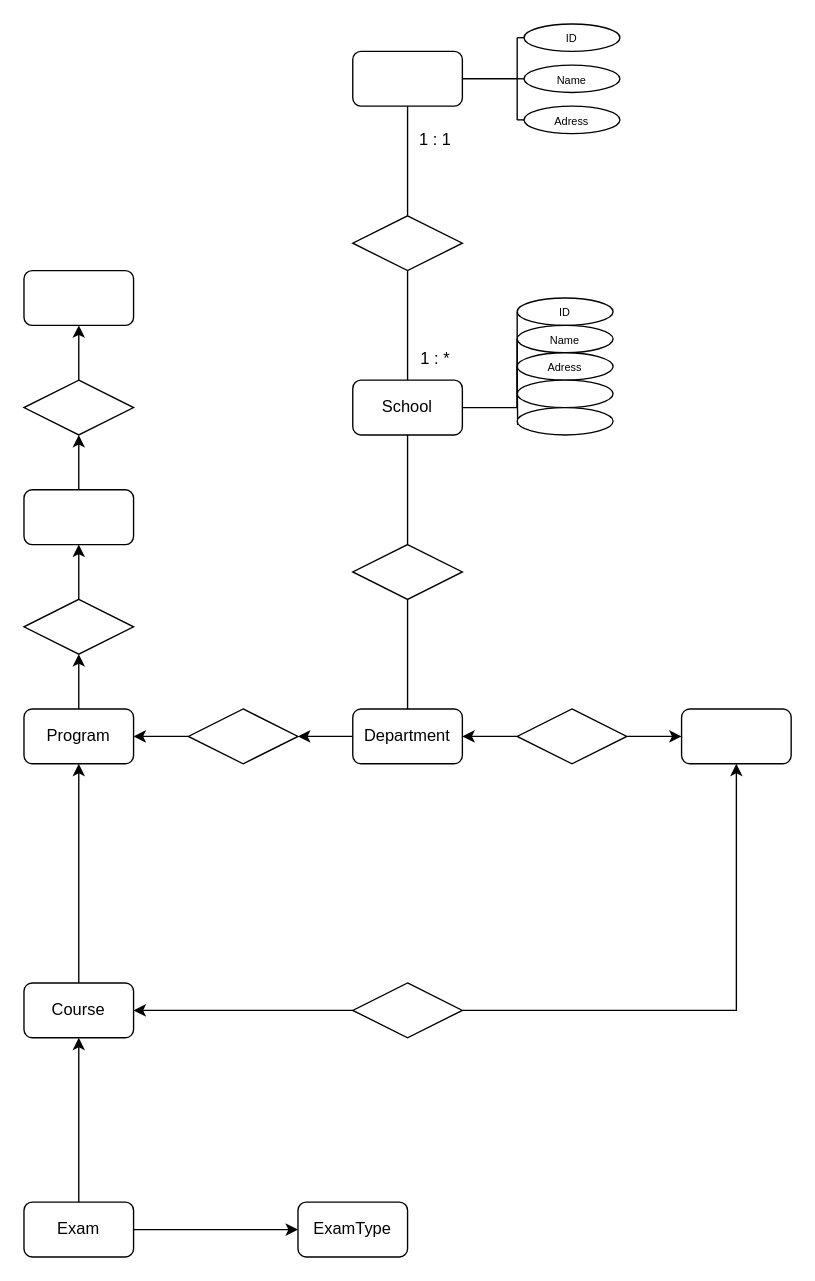
This 815x1281 diagram has some shape labels left out. The centre of each missing label's shape, as x and y in pixels:
Dean: [564,393]
Employe: [735,736]
Exam history: [78,297]
NumOfStudents: [564,420]
Student: [78,516]
University: [406,78]
